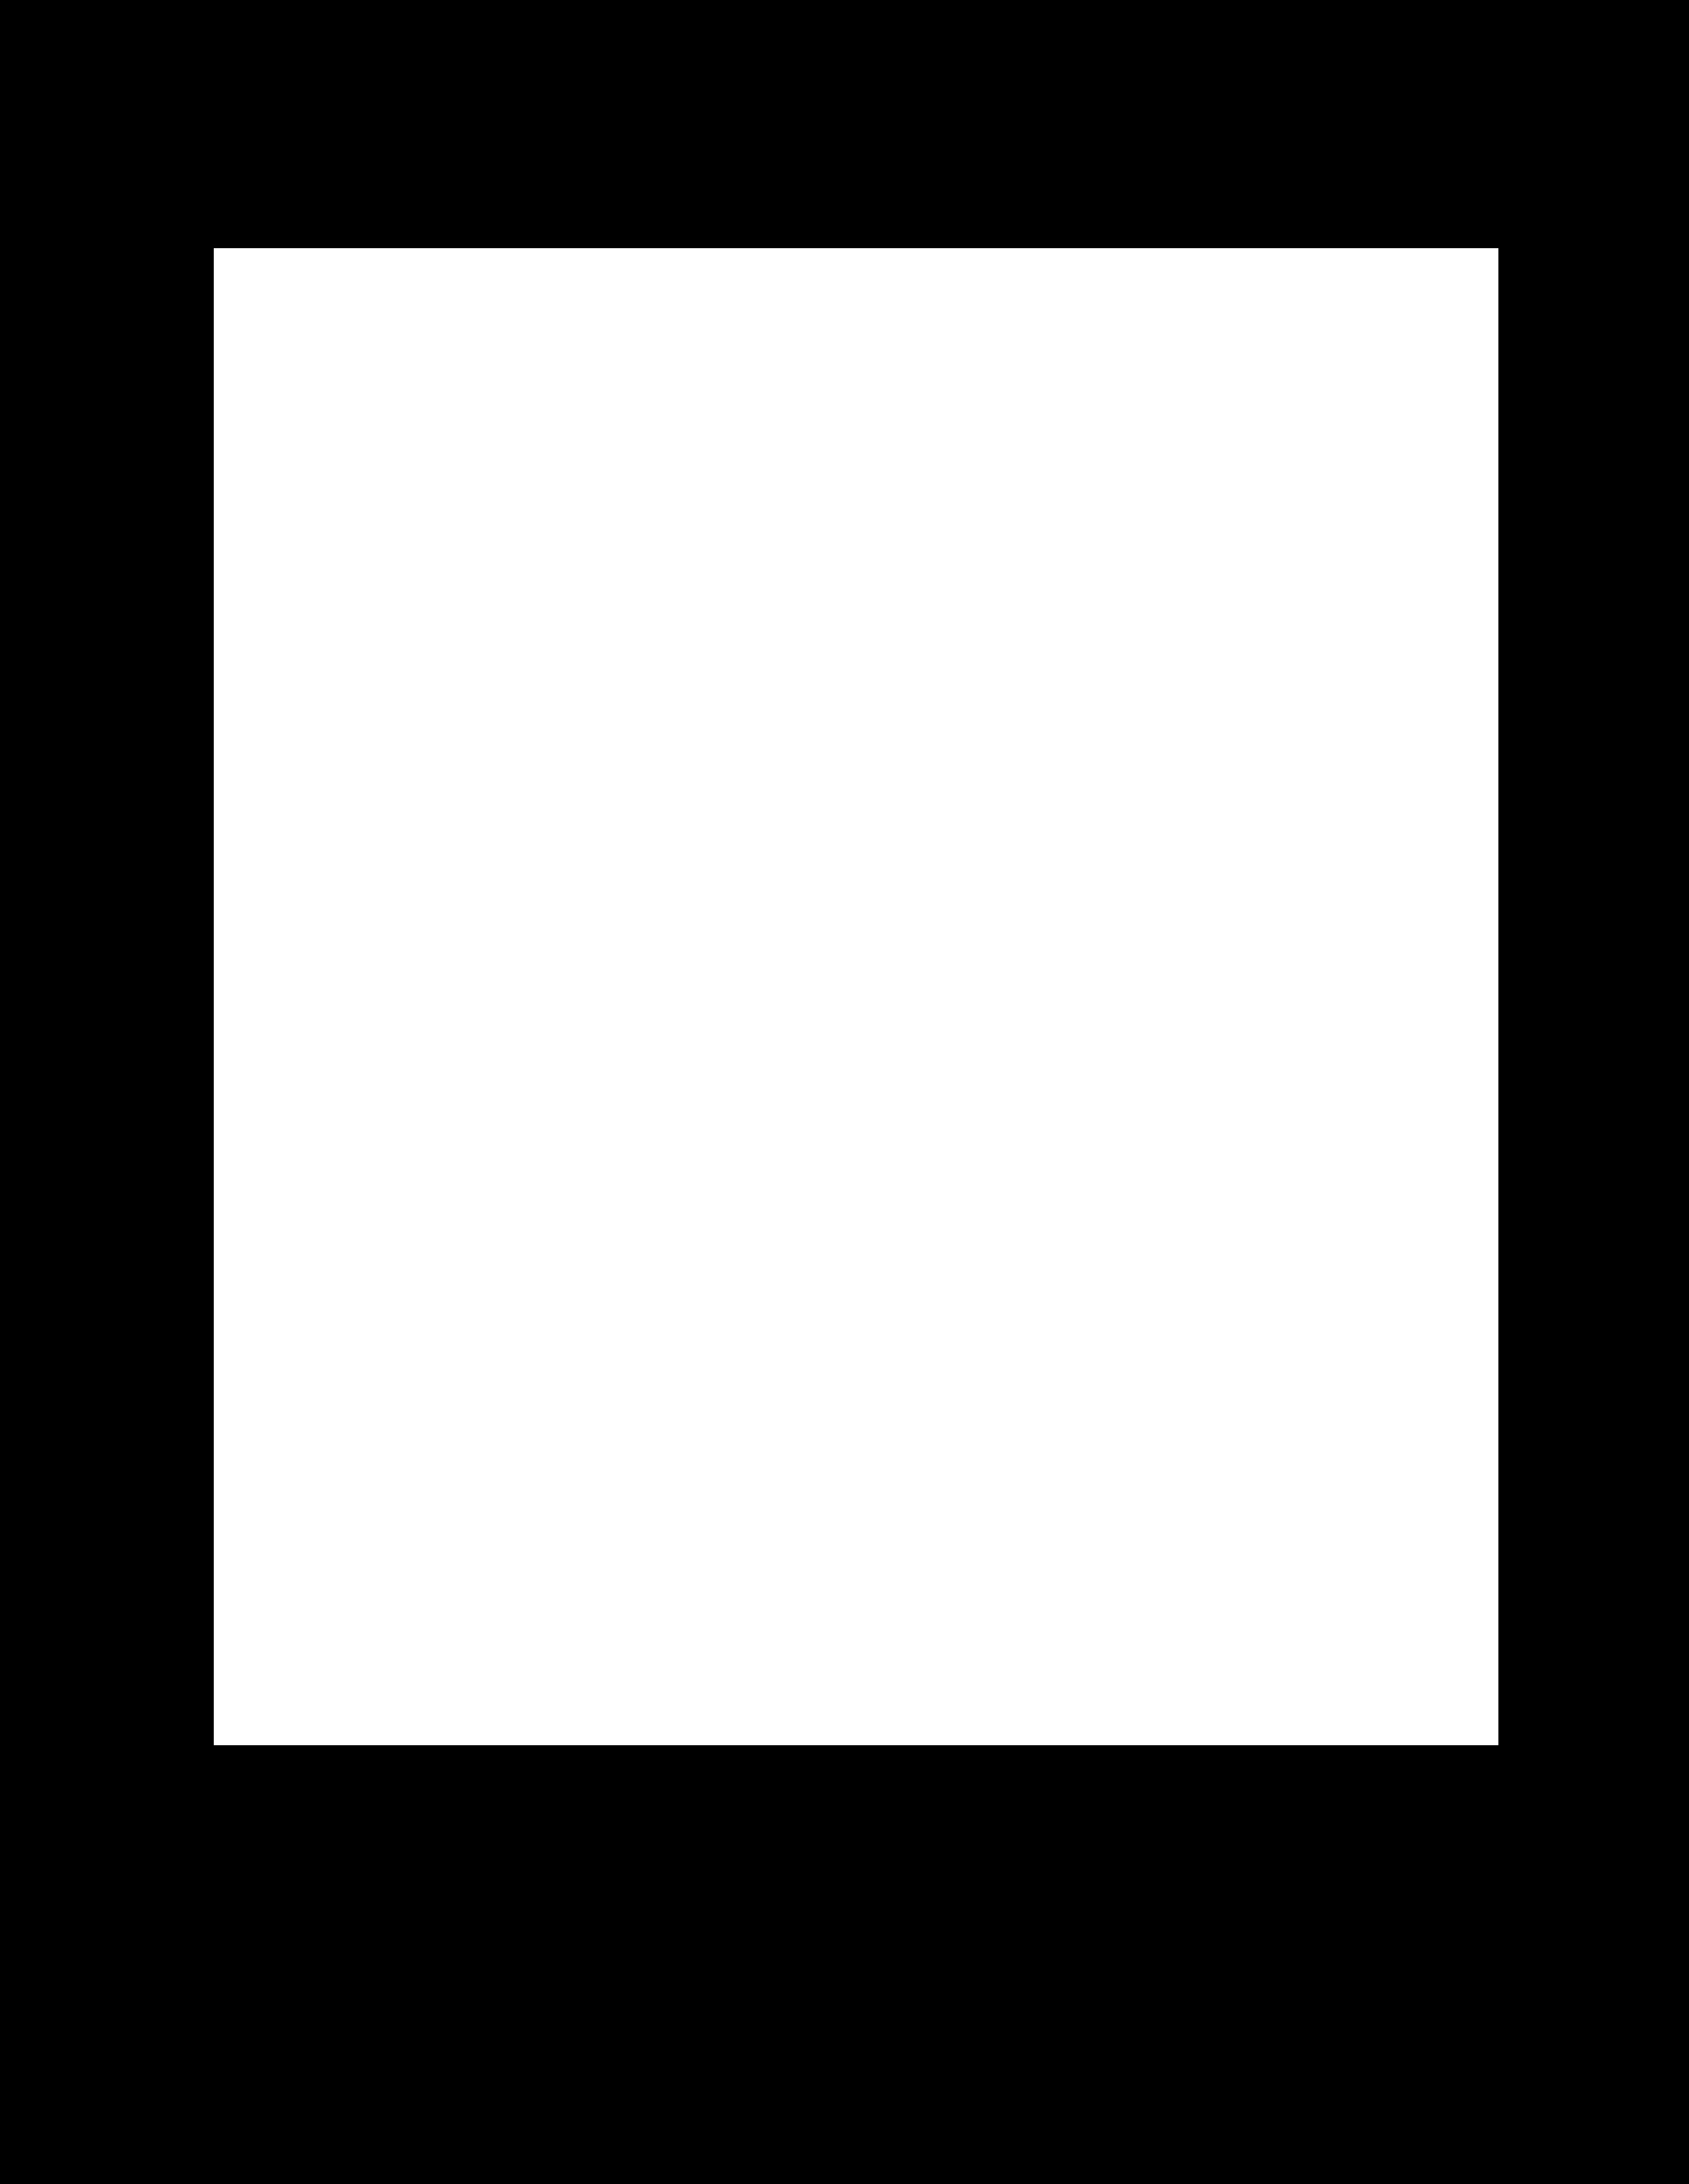table: (214, 248, 1498, 1744)
